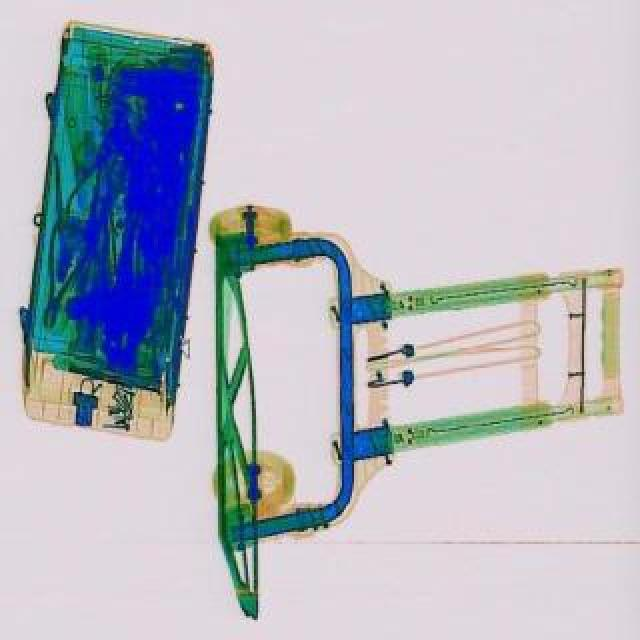wrench: (24, 220, 100, 340)
